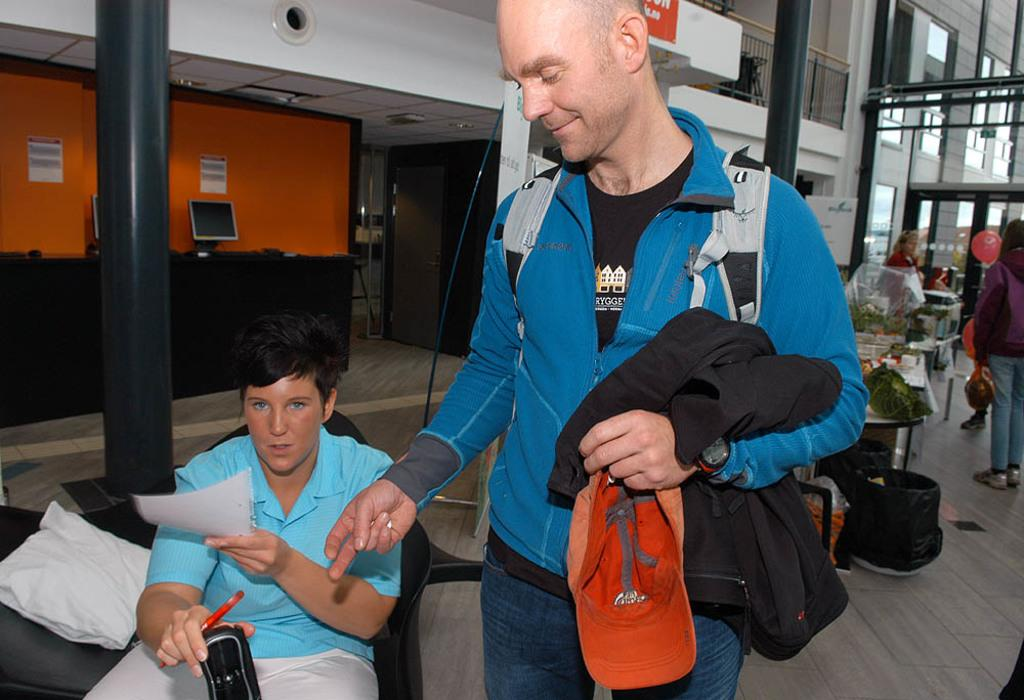Luggage-and-bags: (495, 155, 774, 426)
